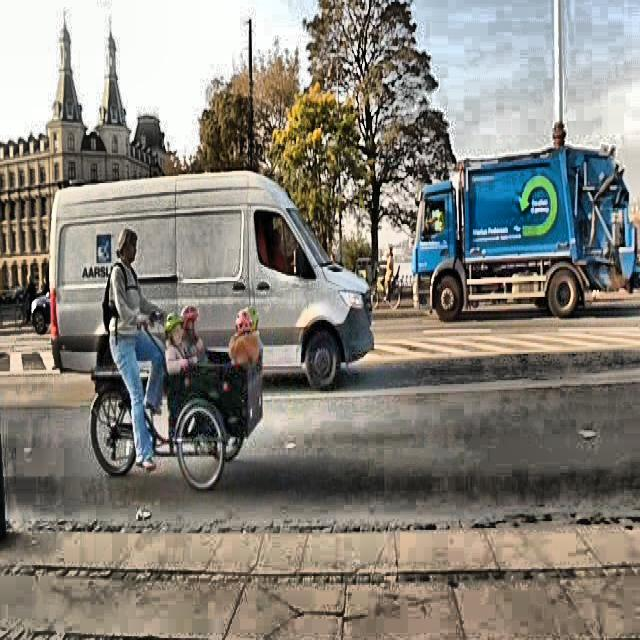ladcykel: (88, 304, 264, 494)
